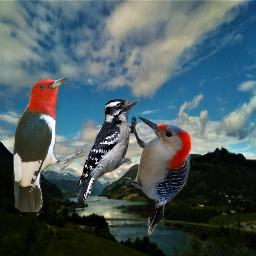Woodpecker: (12, 76, 85, 212), (122, 116, 191, 235), (75, 97, 140, 206)
